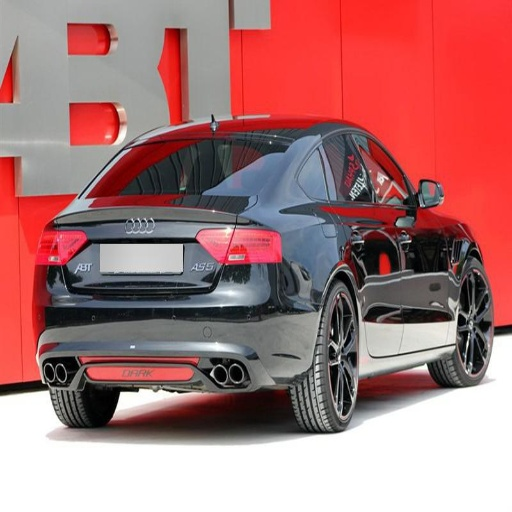_background_: (35, 263, 326, 390)
back_bumper: (91, 143, 255, 195)
back_left_light: (319, 129, 403, 356)
back_right_door: (224, 225, 281, 268)
front_left_light: (349, 129, 452, 309)
right_mirror: (85, 191, 250, 295)
tailgate: (60, 209, 118, 298)
trunk: (289, 280, 359, 431), (429, 256, 492, 385), (50, 386, 119, 426)
